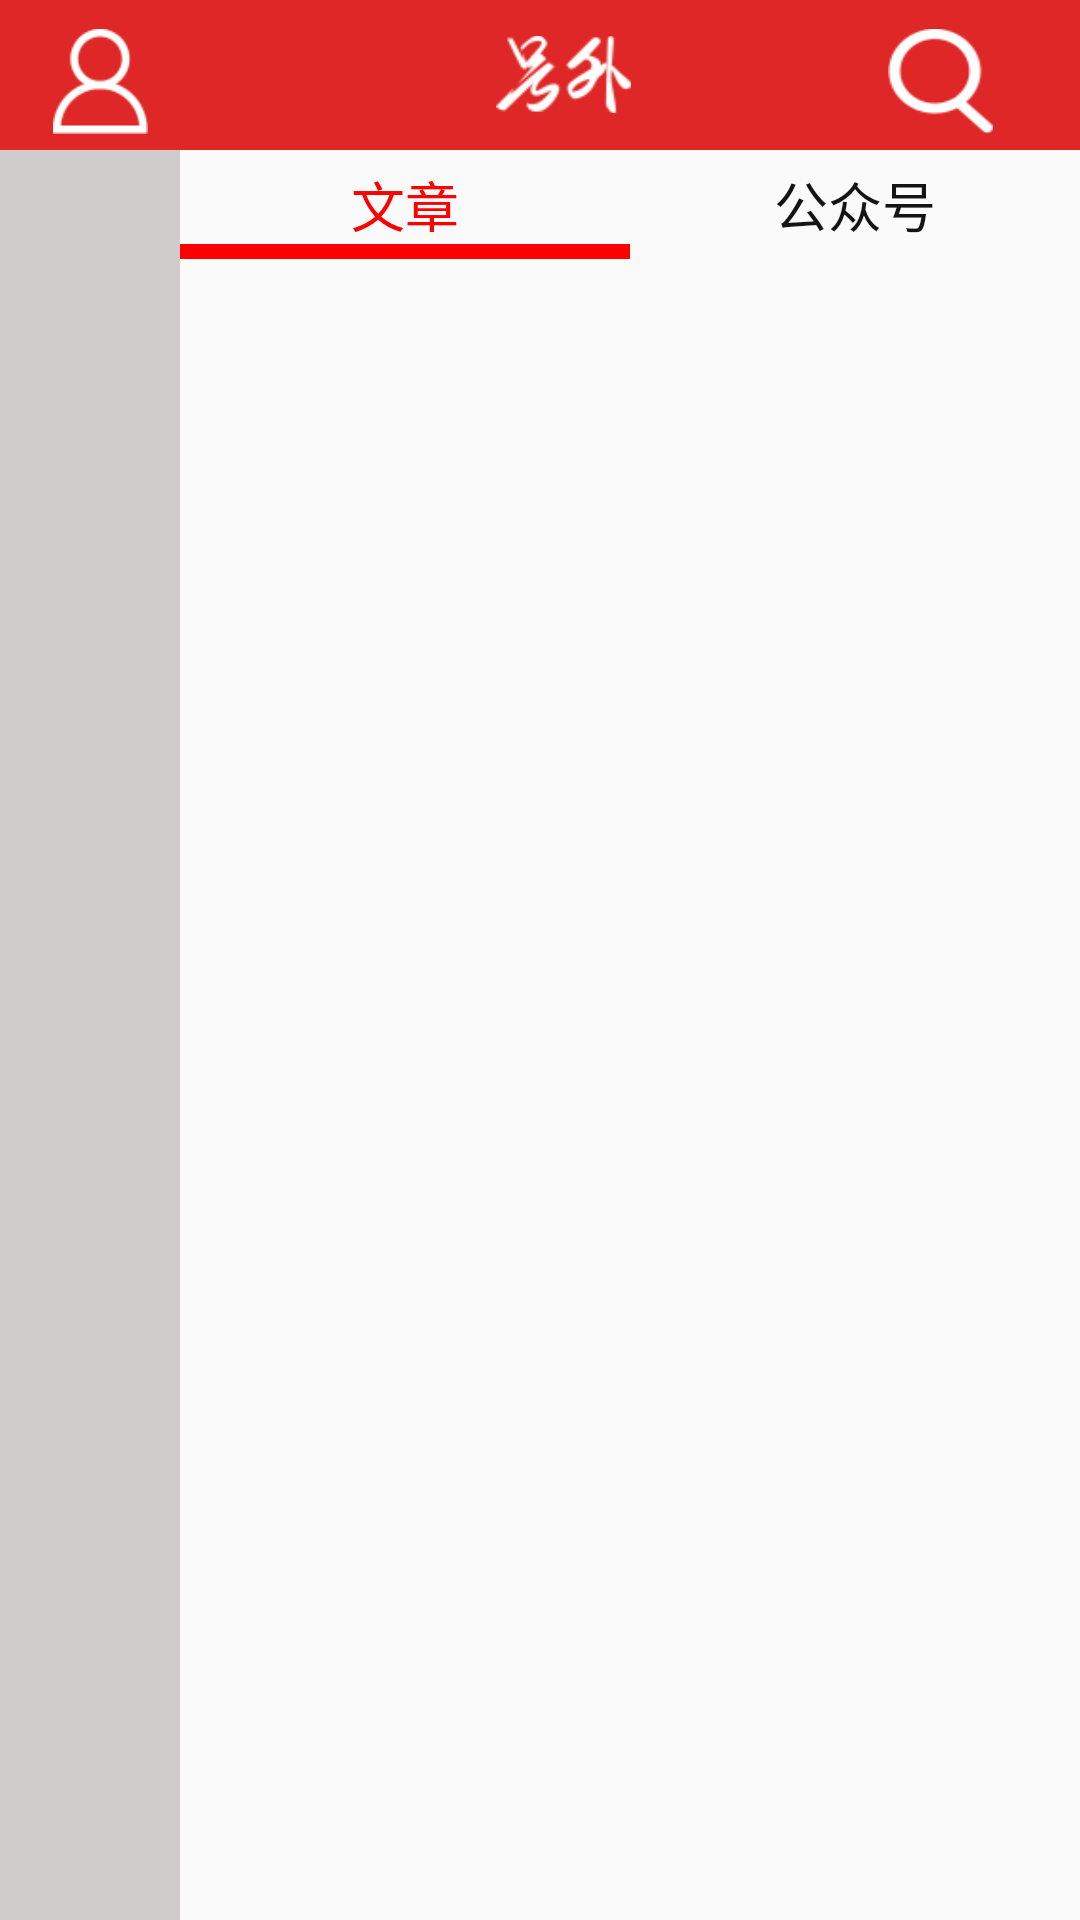

Where icons sit on this 1080px×1920px app screen, as (x1, y1, x2, y2):
search: (888, 29, 993, 133)
